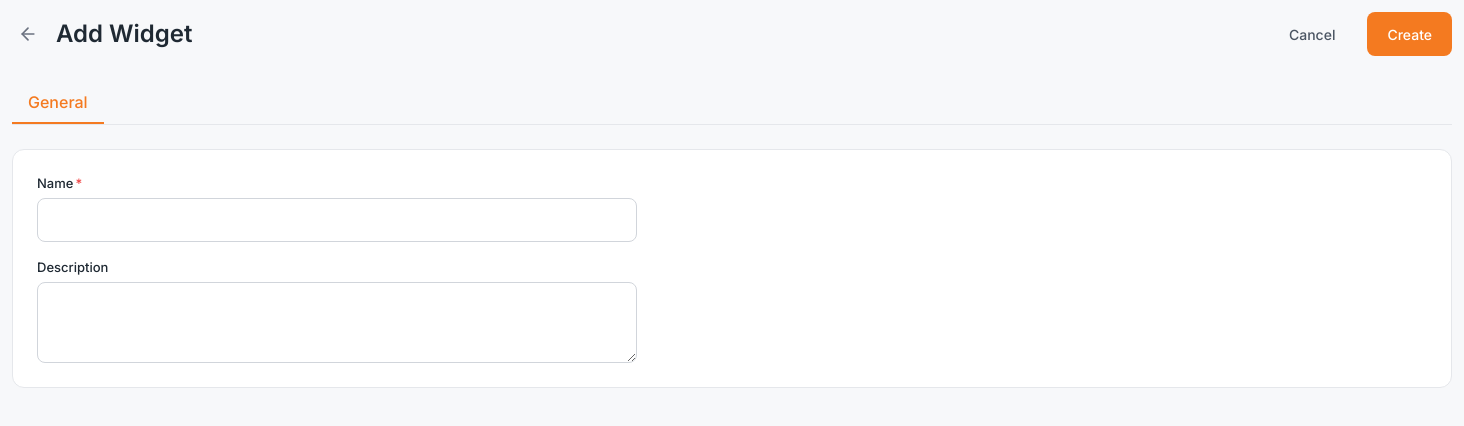
Test case: EntityEditPage › form submission › shows validation errors when required field is empty
The image size is (1464, 426).
// Clear the name field and try to save
What coordinates should you click on to do the following:
click the button with test id "widget-save"
I would click on:
 (1410, 34)
Its box is [1367,12,1452,56].
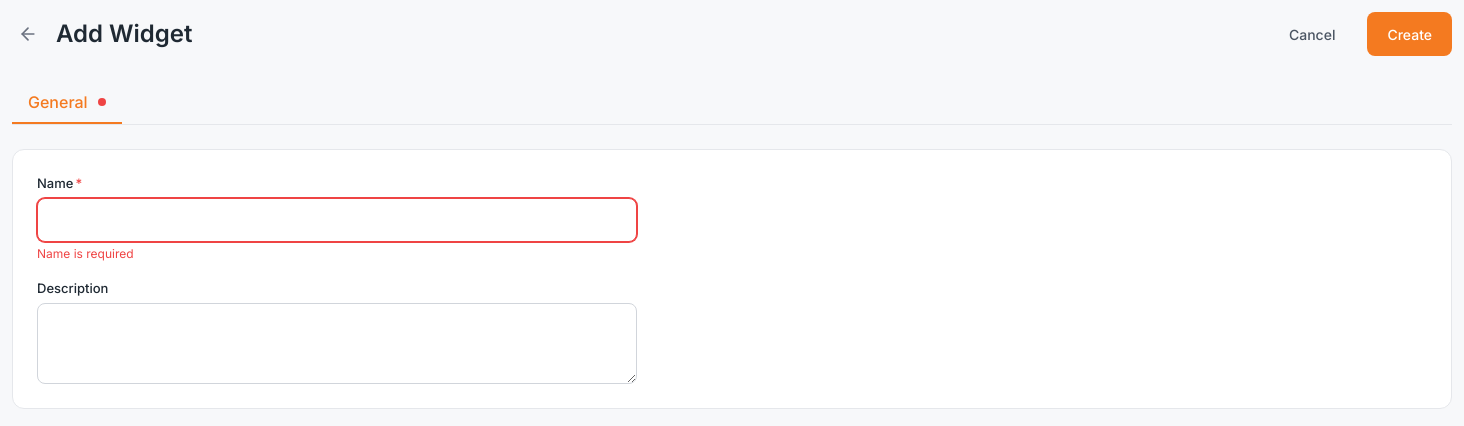
Check: the text "Name is required" is shown, box [37,246,134,261]
